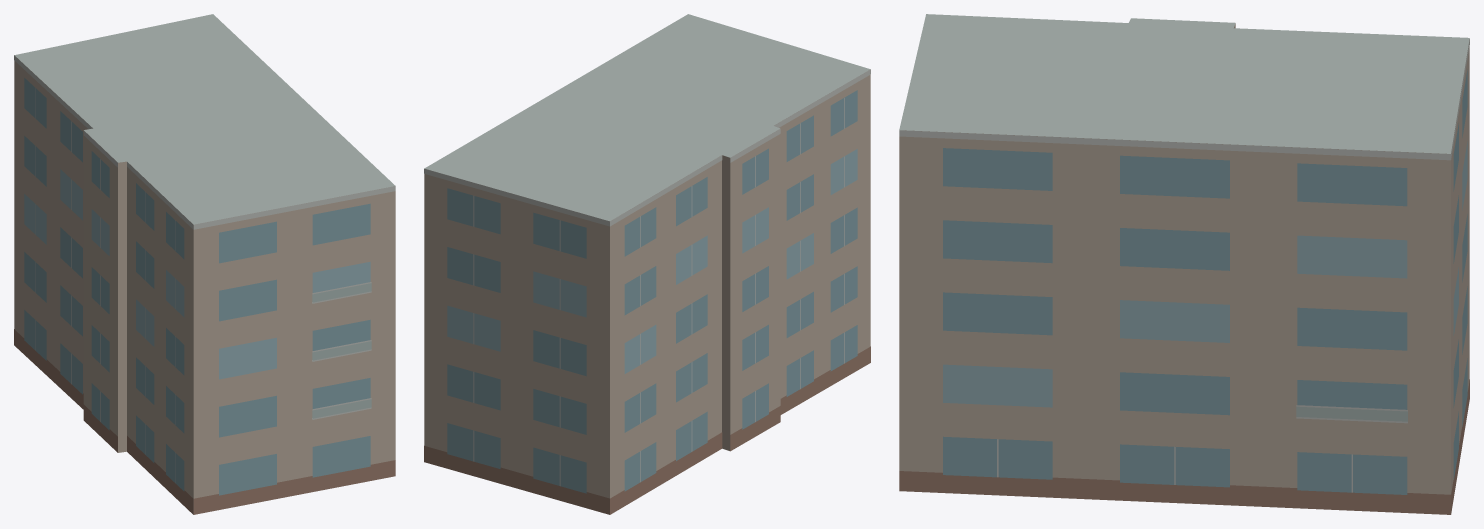
File: survey-upis-32782795.glb
The picture shows the model from 3 angles, left to right: view 1: azimuth 30°, elevation 25°; view 2: azimuth 150°, elevation 25°; view 3: azimuth 270°, elevation 25°; orthographic projection. The views are drawn at different scales.
Visible parts, largest first — view 1: survey-upis-32782795.tmp; view 2: survey-upis-32782795.tmp; view 3: survey-upis-32782795.tmp.
Boxes of the visible parts, bbox=[...] form: survey-upis-32782795.tmp: bbox=[14, 14, 395, 514]; survey-upis-32782795.tmp: bbox=[424, 14, 870, 514]; survey-upis-32782795.tmp: bbox=[899, 14, 1469, 514].
Size of the model in its own units: 11.48 by 13.8 by 19.78.
